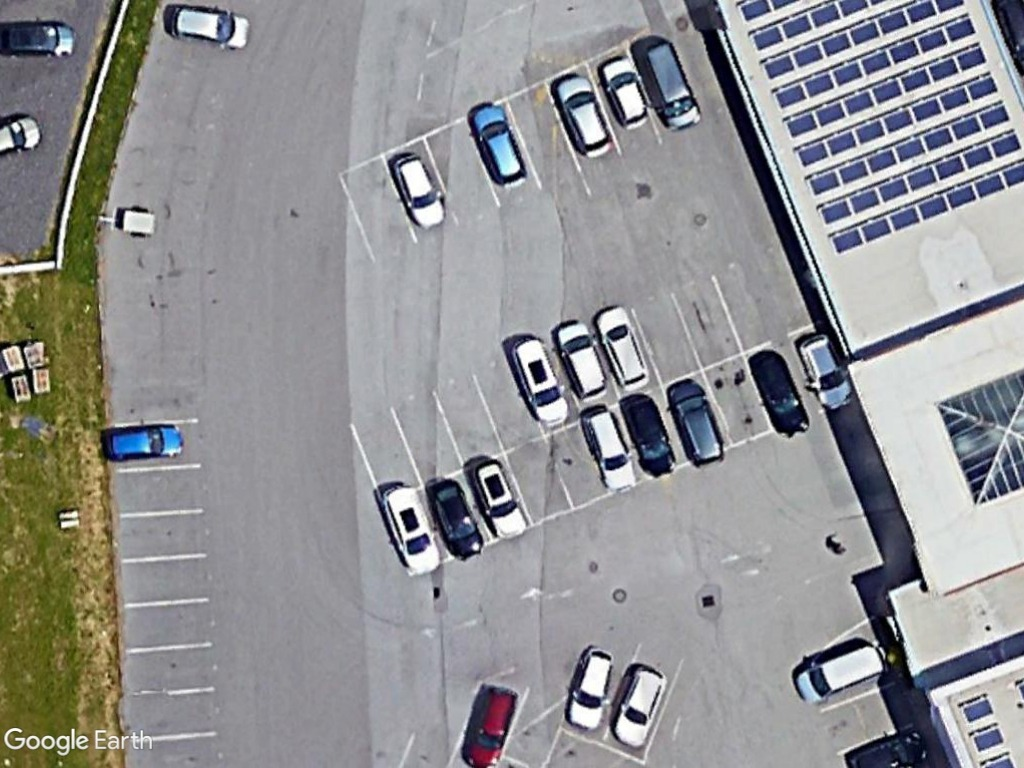car: (373, 478, 445, 578), (464, 97, 533, 194), (506, 334, 571, 432), (591, 296, 654, 397), (749, 348, 813, 443), (578, 404, 644, 496), (667, 375, 730, 471), (549, 316, 612, 411), (465, 454, 531, 544), (428, 473, 490, 565), (791, 329, 855, 416), (552, 71, 613, 162), (610, 659, 671, 750), (384, 147, 448, 233), (623, 391, 682, 484), (563, 643, 622, 731), (461, 684, 522, 768), (163, 1, 257, 54), (594, 52, 652, 134), (96, 420, 185, 467)
van: (790, 635, 891, 708), (639, 30, 704, 135)
